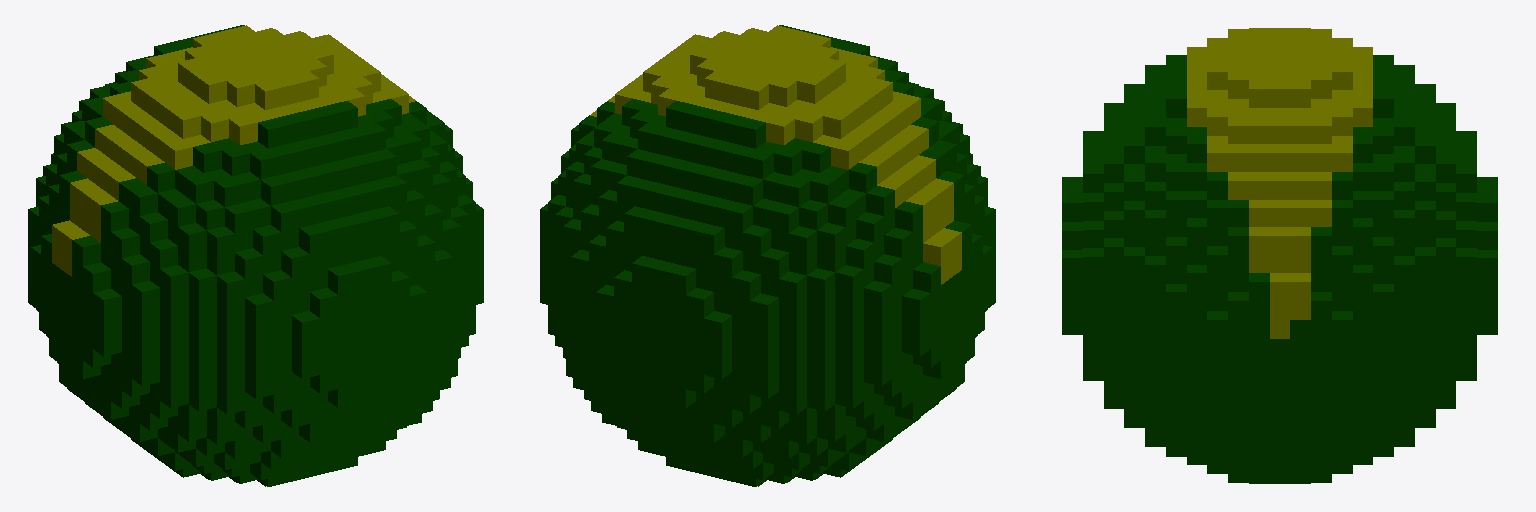
3 views of the same model, side by side, from view 1: azimuth 30°, elevation 25°; view 2: azimuth 150°, elevation 25°; view 3: azimuth 270°, elevation 25° (orthographic).
Visible parts, largest first — view 1: object 1; view 2: object 1; view 3: object 1.
Part boxes in pixels (x1,y1,x2,y2): object 1: (28,25,483,486); object 1: (540,25,995,486); object 1: (1062,28,1497,483).
Size of the model in its own units: 2.1 by 2.1 by 2.1.
1 materials, 1 textured.